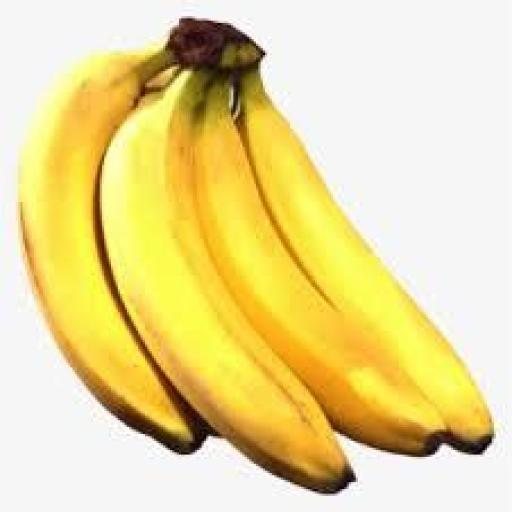banana: (100, 72, 351, 491), (238, 69, 493, 452), (193, 79, 444, 454), (19, 51, 203, 452)
